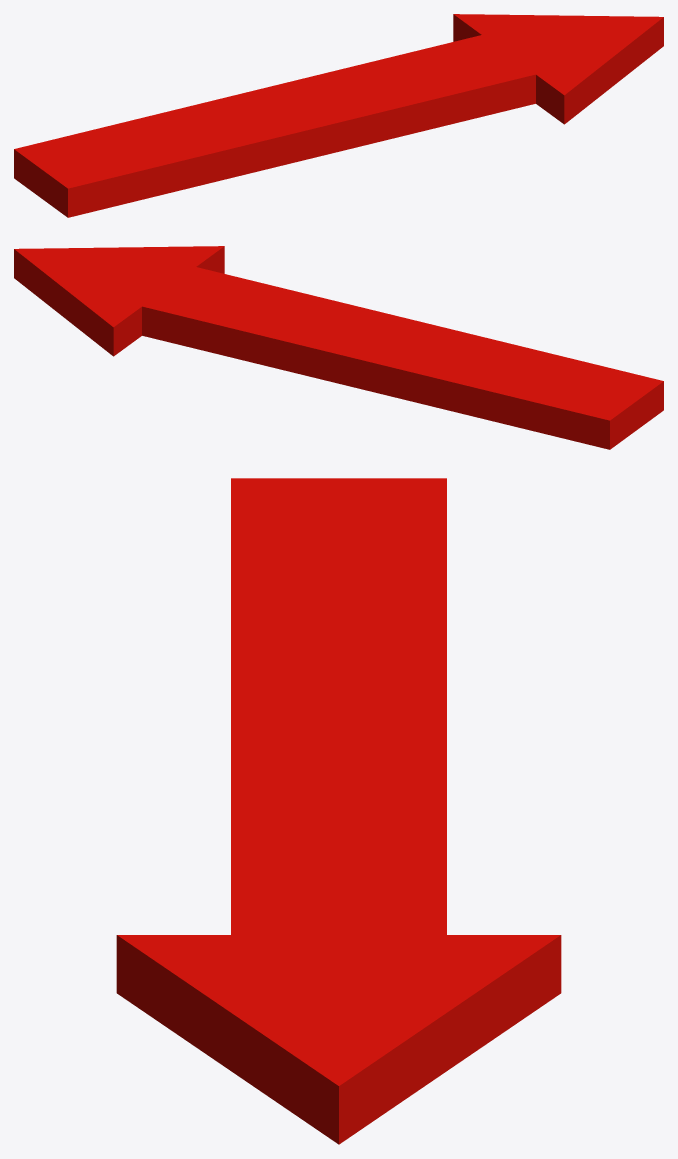
File: arrow.glb
3 renders of one model, top to bottom at view 1: azimuth 30°, elevation 25°; view 2: azimuth 150°, elevation 25°; view 3: azimuth 270°, elevation 25°, orthographic. The views are drawn at different scales.
Parts seen in each view (by area): view 1: Plane; view 2: Plane; view 3: Plane.
Part boxes in pixels (left/top/right/bottom): Plane: left=14, top=14, right=663, bottom=217; Plane: left=14, top=246, right=663, bottom=449; Plane: left=116, top=478, right=561, bottom=1144.
Bounding box in the file's own units: 2.66 × 0.1194 × 0.8229.
